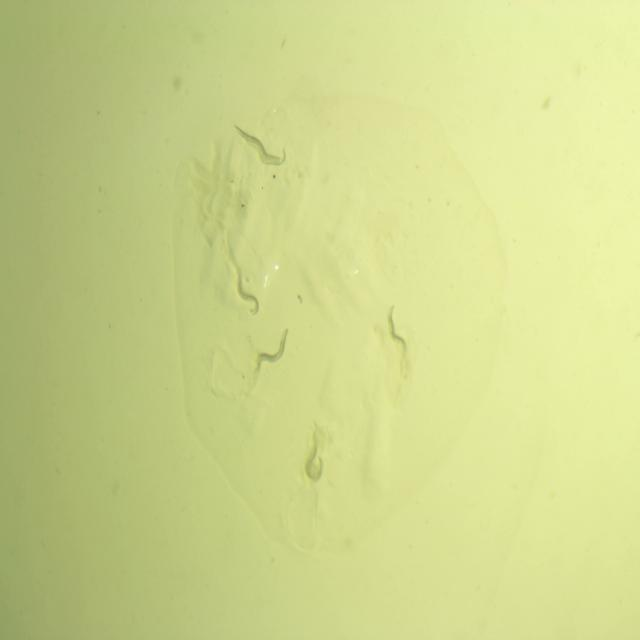worm: (231, 122, 281, 163), (253, 323, 291, 373), (301, 429, 326, 489), (243, 136, 288, 169), (234, 274, 264, 318), (385, 302, 409, 357)
